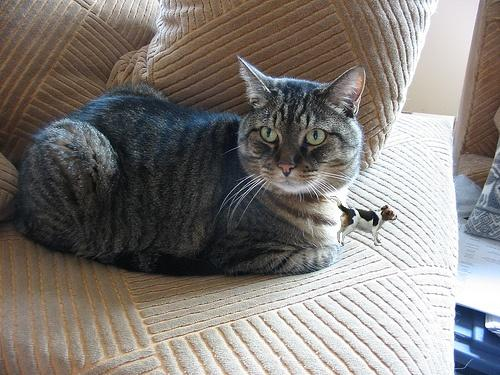tampered: (330, 197, 397, 246)
